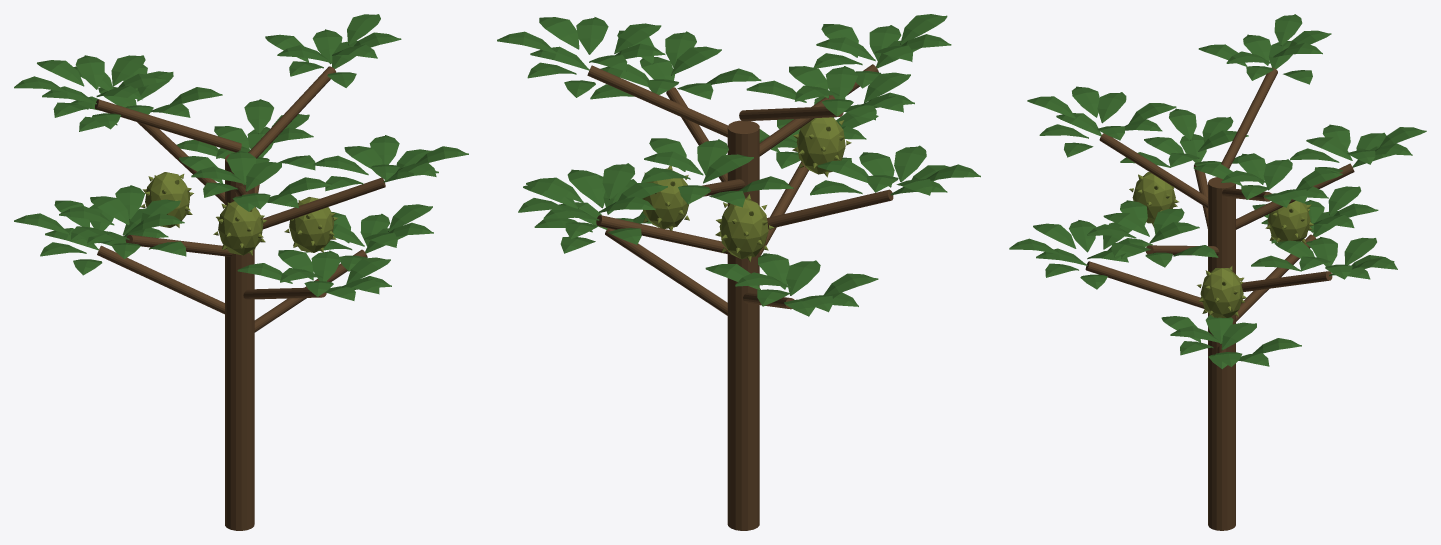
The picture shows the model from 3 angles, left to right: view 1: azimuth 30°, elevation 25°; view 2: azimuth 150°, elevation 25°; view 3: azimuth 270°, elevation 25°; orthographic projection. The views are drawn at different scales.
Visible parts, largest first — view 1: DURIAN_Trunk, DURIAN_Fruit, DURIAN_Branch.009, DURIAN_Fruit.001, DURIAN_Branch.001, DURIAN_Branch.005, DURIAN_Fruit.002, DURIAN_Branch.008, DURIAN_Branch.004, DURIAN_Branch, DURIAN_Branch.002, DURIAN_Branch.006 (+17 smaller); view 2: DURIAN_Trunk, DURIAN_Fruit.002, DURIAN_Fruit, DURIAN_Branch.008, DURIAN_Fruit.001, DURIAN_Branch, DURIAN_Branch.004, DURIAN_Branch.003, DURIAN_Branch.009, DURIAN_Branch.007, DURIAN_Leaf.079, DURIAN_Leaf.033 (+26 smaller); view 3: DURIAN_Trunk, DURIAN_Fruit.001, DURIAN_Fruit.002, DURIAN_Fruit, DURIAN_Branch.007, DURIAN_Branch.002, DURIAN_Branch.009, DURIAN_Branch.003, DURIAN_Branch.006, DURIAN_Branch.001, DURIAN_Leaf, DURIAN_Leaf.045 (+14 smaller).
Boxes of the visible parts, <box> form: DURIAN_Trunk: <box>225,154,254,530</box>; DURIAN_Fruit: <box>218,201,263,255</box>; DURIAN_Branch.009: <box>95,99,241,152</box>; DURIAN_Fruit.001: <box>289,197,334,252</box>; DURIAN_Branch.001: <box>97,245,224,314</box>; DURIAN_Branch.005: <box>262,177,385,229</box>; DURIAN_Fruit.002: <box>145,172,189,227</box>; DURIAN_Branch.008: <box>248,66,336,158</box>; DURIAN_Branch.004: <box>125,234,232,256</box>; DURIAN_Branch: <box>254,249,367,332</box>; DURIAN_Branch.002: <box>243,287,326,299</box>; DURIAN_Branch.006: <box>137,122,224,203</box>; DURIAN_Trunk: <box>727,120,759,530</box>; DURIAN_Fruit.002: <box>719,198,768,259</box>; DURIAN_Fruit: <box>796,117,845,174</box>; DURIAN_Branch.008: <box>587,65,727,137</box>; DURIAN_Fruit.001: <box>642,168,689,228</box>; DURIAN_Branch: <box>605,228,727,315</box>; DURIAN_Branch.004: <box>767,189,893,229</box>; DURIAN_Branch.003: <box>596,215,730,254</box>; DURIAN_Branch.009: <box>739,106,843,121</box>; DURIAN_Branch.007: <box>759,64,878,156</box>; DURIAN_Leaf.079: <box>576,17,608,54</box>; DURIAN_Leaf.033: <box>602,163,634,199</box>; DURIAN_Trunk: <box>1208,177,1235,530</box>; DURIAN_Fruit.001: <box>1200,268,1243,317</box>; DURIAN_Fruit.002: <box>1267,201,1310,241</box>; DURIAN_Fruit: <box>1132,172,1175,223</box>; DURIAN_Branch.007: <box>1099,133,1207,208</box>; DURIAN_Branch.002: <box>1085,261,1204,308</box>; DURIAN_Branch.009: <box>1221,67,1277,168</box>; DURIAN_Branch.003: <box>1241,271,1332,291</box>; DURIAN_Branch.006: <box>1236,163,1354,229</box>; DURIAN_Branch.001: <box>1236,234,1316,321</box>; DURIAN_Leaf: <box>1274,14,1302,45</box>; DURIAN_Leaf.045: <box>1169,108,1196,140</box>.
Bounding box in the file's own units: 3.92 × 4.38 × 3.86.
